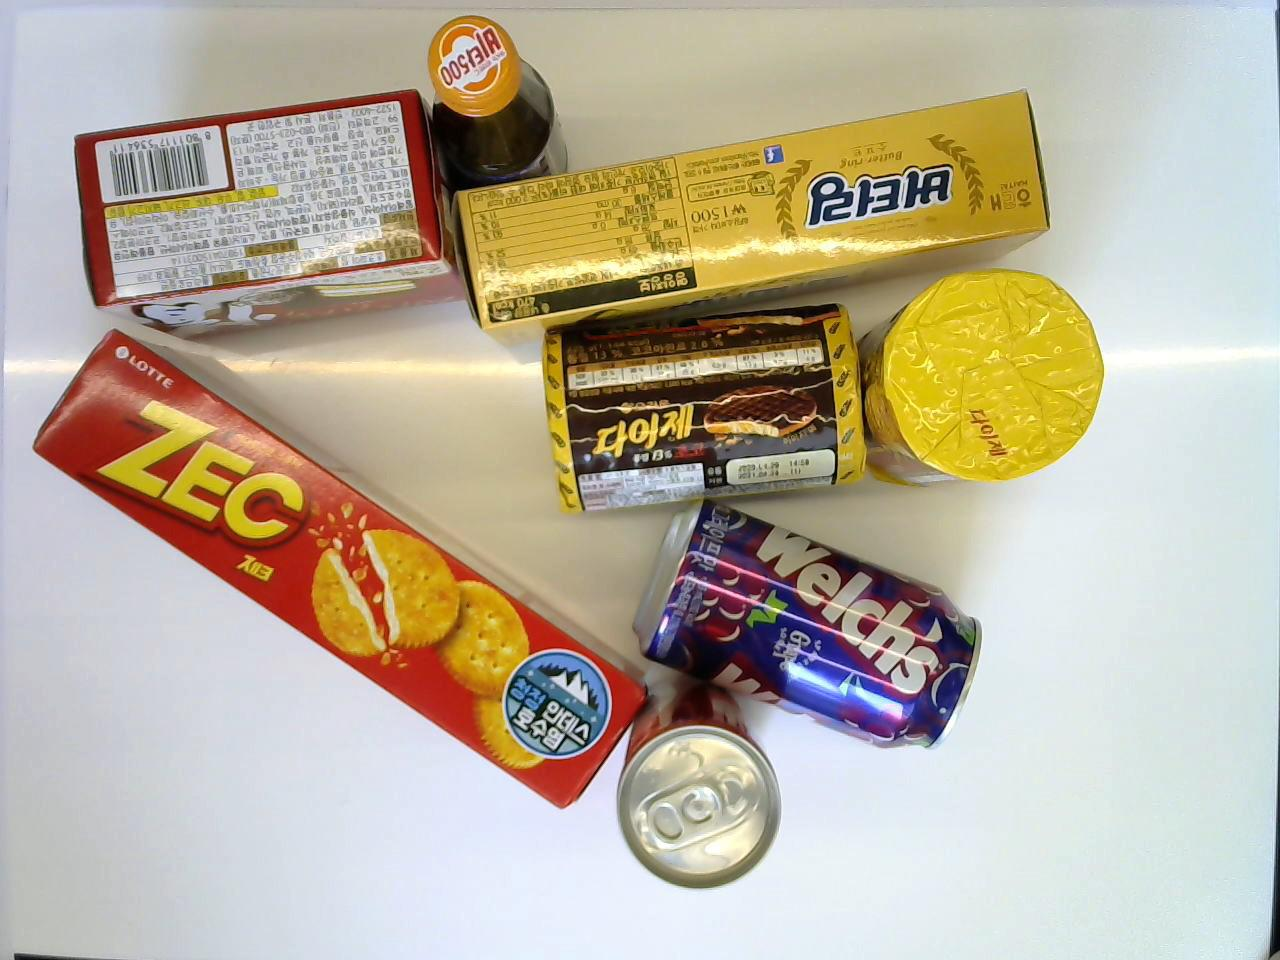buttering: (444, 85, 1051, 332)
chocopie: (72, 85, 461, 348)
coke: (612, 675, 785, 891)
diget_choco: (539, 298, 870, 519)
diget_ori: (858, 266, 1104, 489)
vita500: (417, 9, 569, 200)
welchs: (631, 499, 989, 755)
zec: (25, 332, 642, 815)
